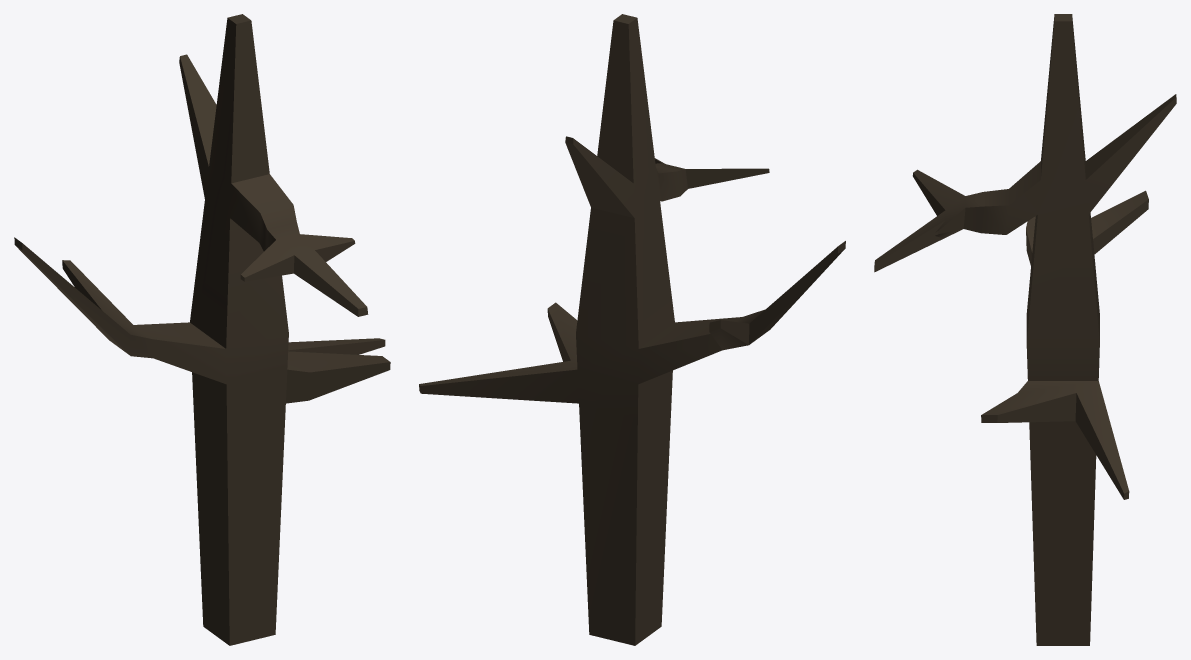
File: DeadTree3.fbx
3 renders of one model, left to right at view 1: azimuth 30°, elevation 25°; view 2: azimuth 150°, elevation 25°; view 3: azimuth 270°, elevation 25°, orthographic.
Visible parts, largest first — view 1: DeadTree3; view 2: DeadTree3; view 3: DeadTree3.
Part boxes in pixels (left/top/right/bottom): DeadTree3: left=14, top=14, right=390, bottom=645; DeadTree3: left=419, top=14, right=845, bottom=645; DeadTree3: left=874, top=14, right=1176, bottom=645.
Bounding box in the file's own units: 715 × 1058 × 470.
